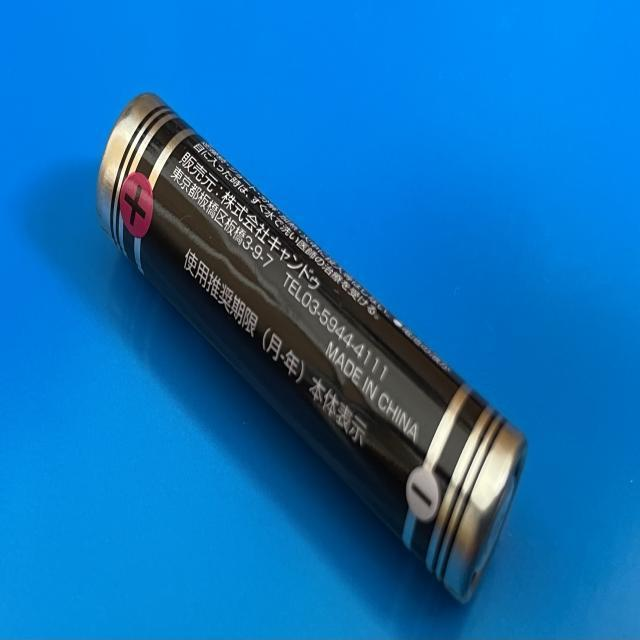Hazard: (94, 84, 529, 604)
